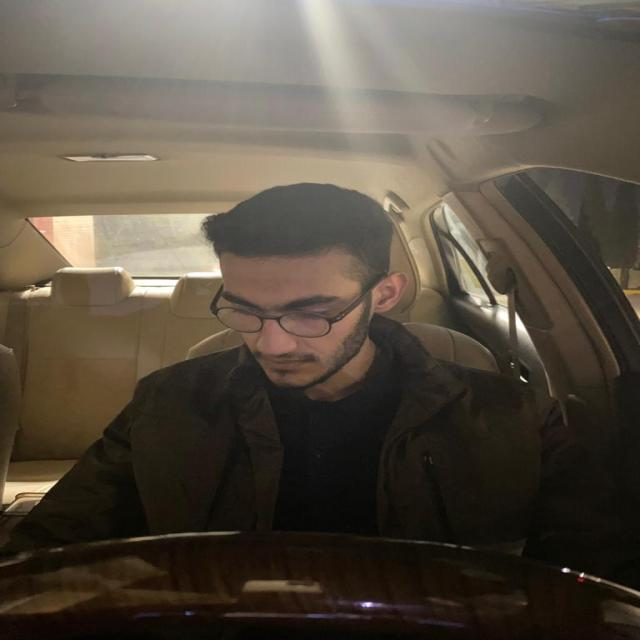drowsy: (196, 182, 412, 385)
